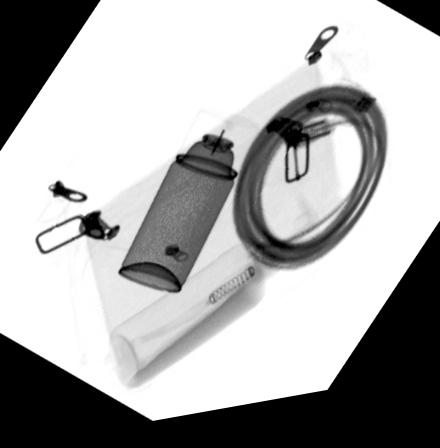Sprayer: (114, 111, 262, 301)
